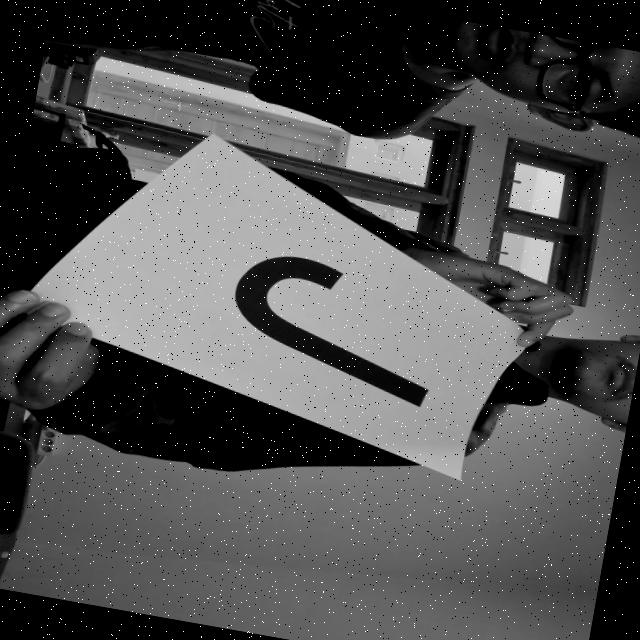j: (189, 233, 457, 423)
